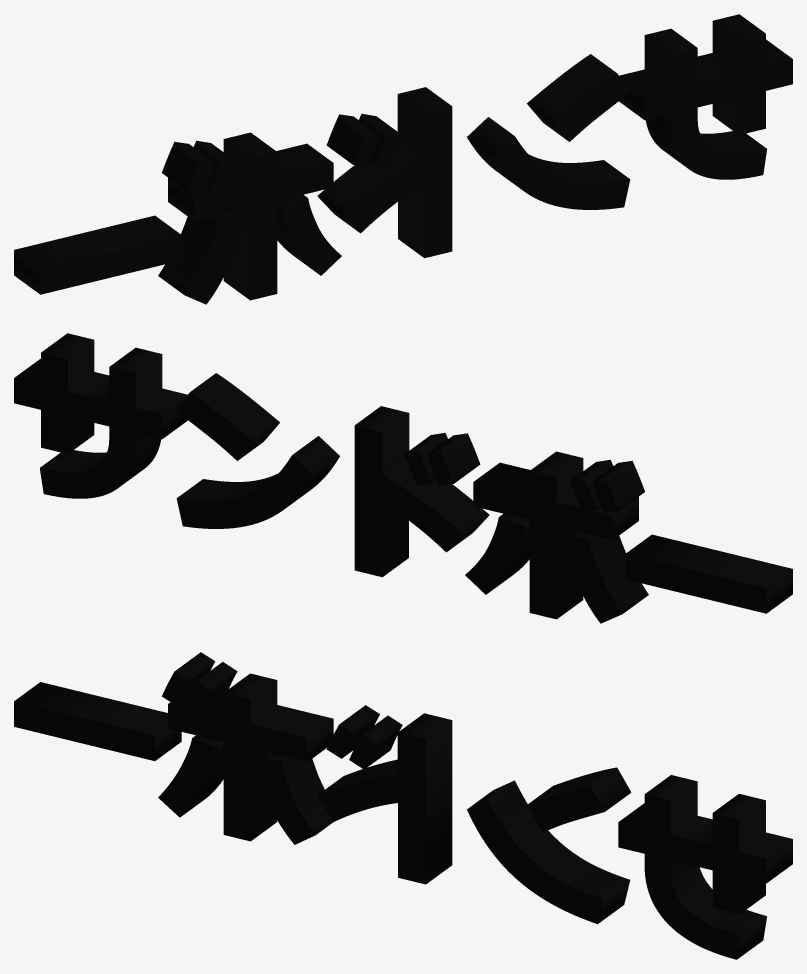
File: title_left.obj
The picture shows the model from 3 angles, top to bottom: view 1: azimuth 30°, elevation 25°; view 2: azimuth 150°, elevation 25°; view 3: azimuth 330°, elevation 25°; orthographic projection.
Visible parts, largest first — view 1: テキスト; view 2: テキスト; view 3: テキスト.
Boxes of the visible parts, bbox=[...] form: テキスト: bbox=[14, 14, 792, 304]; テキスト: bbox=[14, 333, 792, 623]; テキスト: bbox=[14, 652, 792, 959].
Size of the model in its own units: 3.28 by 0.6317 by 0.2.
1 material, 1 textured.
